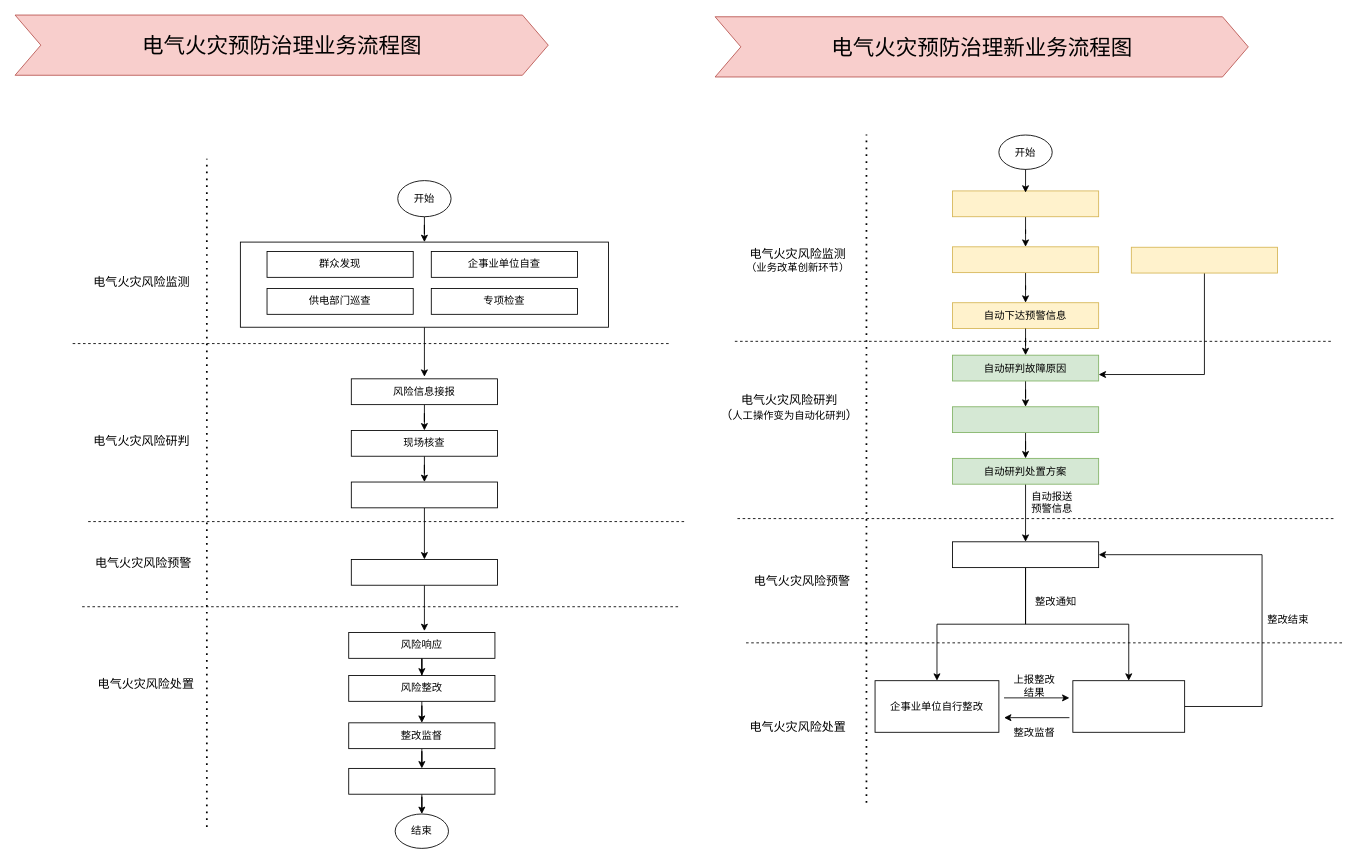
The diagram is 1361 pixels wide and 863 high, and some of its shapes have lost their labels. The box of each missing label's shape, as (x1, y1, x2, y2) in pixels:
会商研判: (350, 481, 498, 508)
县消防大队、县应急局等相关主管部门，供电部门: (1072, 680, 1185, 732)
发布预警信息: (350, 559, 498, 585)
安装超前预警设备: (952, 190, 1099, 217)
巫山县城市运行和治理中心: (952, 541, 1099, 568)
总结说明: (348, 768, 495, 794)
整合已有系统电气数据: (1130, 246, 1278, 273)
自动研判事故等级: (952, 406, 1099, 433)
触发电气火灾预警: (952, 246, 1099, 273)
